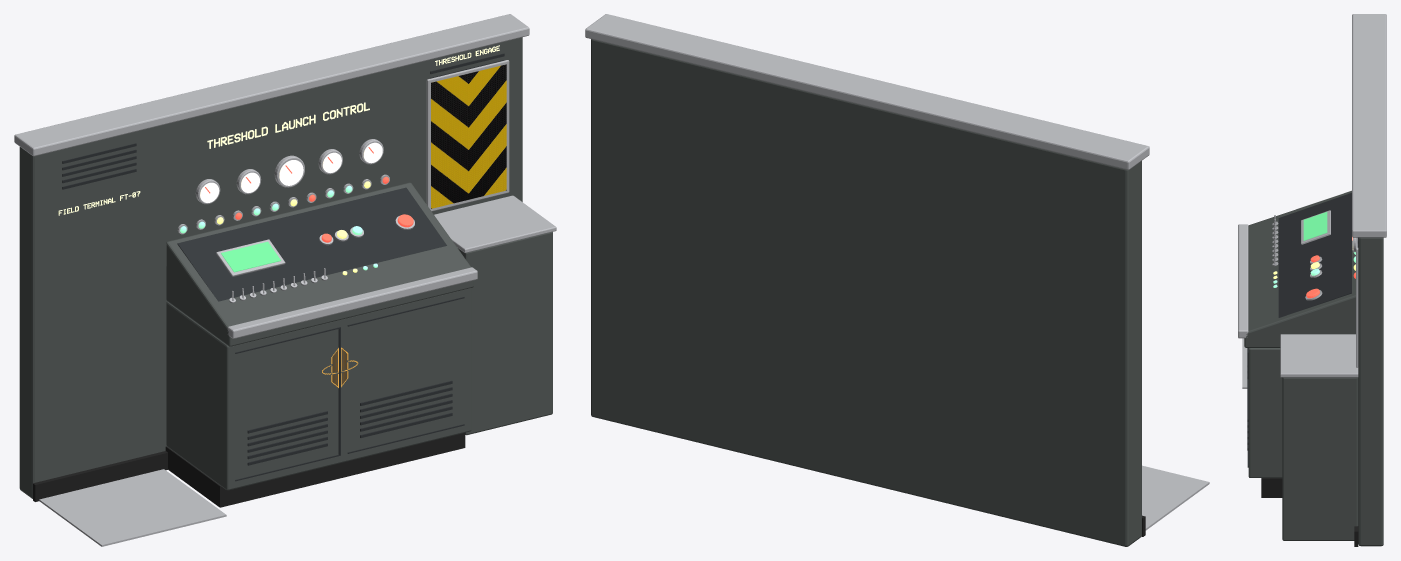
The model's file is tsra_console.glb.
3 renders of one model, left to right at view 1: azimuth 30°, elevation 25°; view 2: azimuth 150°, elevation 25°; view 3: azimuth 270°, elevation 25°, orthographic. The views are drawn at different scales.
Visible parts, largest first — view 1: Backboard, DeskBody, LeverPedestal, SlopeFace, BackboardCap, DeskSlope, HazardPlate, TerminalPlate, DeskBase, LeverPedestalTop, DeskLip, Kick (+3 smaller); view 2: Backboard, BackboardCap, TerminalPlate; view 3: LeverPedestal, Backboard, BackboardCap, DeskSlope, SlopeFace, DeskBody, LeverPedestalTop, DeskLip, ReadoutGlass, DeskBase, HazardFrame, ReadoutBezel (+1 smaller).
Boxes of the visible parts, x1=… form: Backboard: x1=19, y1=37, x2=522, y2=498; DeskBody: x1=166, y1=288, x2=471, y2=490; LeverPedestal: x1=458, y1=232, x2=552, y2=435; SlopeFace: x1=177, y1=187, x2=446, y2=301; BackboardCap: x1=14, y1=14, x2=529, y2=156; DeskSlope: x1=166, y1=182, x2=473, y2=346; HazardPlate: x1=431, y1=64, x2=506, y2=208; TerminalPlate: x1=39, y1=469, x2=226, y2=546; DeskBase: x1=165, y1=433, x2=465, y2=507; LeverPedestalTop: x1=434, y1=195, x2=556, y2=252; DeskLip: x1=227, y1=267, x2=477, y2=338; Kick: x1=33, y1=451, x2=167, y2=501; Backboard: x1=591, y1=39, x2=1141, y2=546; BackboardCap: x1=585, y1=14, x2=1149, y2=169; TerminalPlate: x1=1142, y1=465, x2=1209, y2=530; LeverPedestal: x1=1282, y1=377, x2=1358, y2=540; Backboard: x1=1358, y1=237, x2=1383, y2=546; BackboardCap: x1=1352, y1=14, x2=1386, y2=237; DeskSlope: x1=1244, y1=190, x2=1355, y2=347; SlopeFace: x1=1278, y1=193, x2=1351, y2=317; DeskBody: x1=1248, y1=348, x2=1282, y2=477; LeverPedestalTop: x1=1280, y1=334, x2=1358, y2=377; DeskLip: x1=1238, y1=224, x2=1248, y2=338; ReadoutGlass: x1=1303, y1=212, x2=1327, y2=240; DeskBase: x1=1261, y1=478, x2=1282, y2=497; HazardFrame: x1=1356, y1=237, x2=1358, y2=367; ReadoutBezel: x1=1301, y1=210, x2=1330, y2=244.
Size of what is drawn, in the model's own units: 2.43 by 1.66 by 0.705.
Materials: 12 (2 with a texture image).
